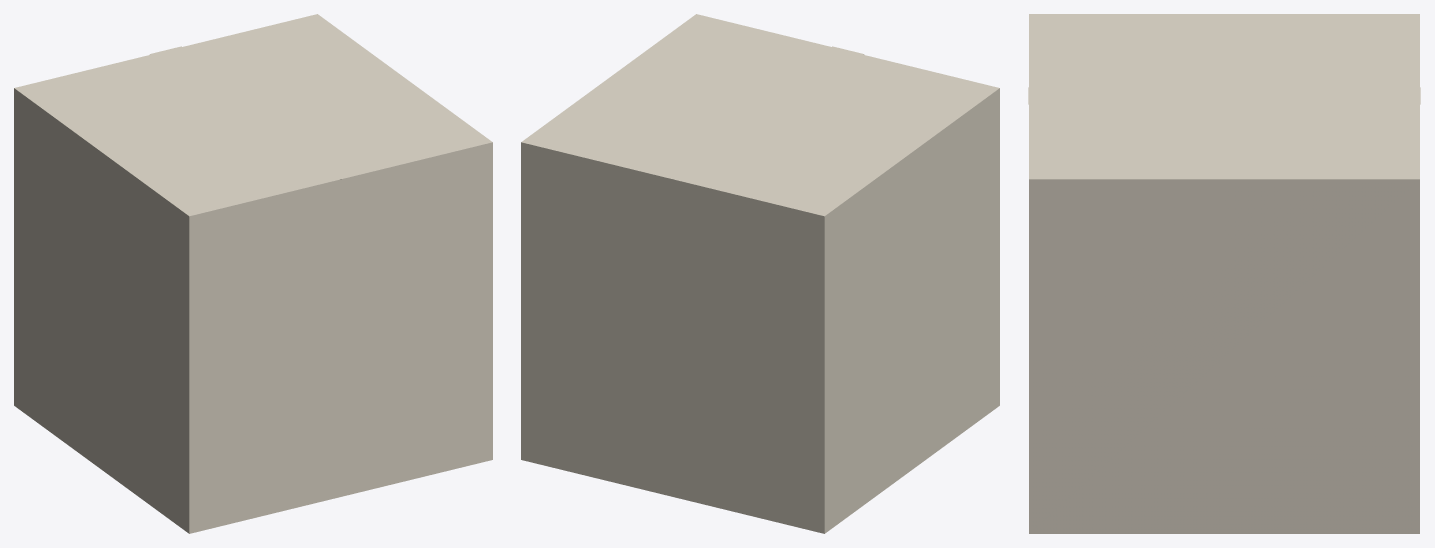
The model's file is Kit_RecordsCarton_Plain.fbx.
The picture shows the model from 3 angles, left to right: view 1: azimuth 30°, elevation 25°; view 2: azimuth 150°, elevation 25°; view 3: azimuth 270°, elevation 25°; orthographic projection. The views are drawn at different scales.
Visible parts, largest first — view 1: Kit_RecordsCarton_Plain_LOD0; view 2: Kit_RecordsCarton_Plain_LOD0; view 3: Kit_RecordsCarton_Plain_LOD0.
Part boxes in pixels (x1,y1,x2,y2): Kit_RecordsCarton_Plain_LOD0: (14, 14, 492, 533); Kit_RecordsCarton_Plain_LOD0: (521, 14, 999, 533); Kit_RecordsCarton_Plain_LOD0: (1028, 14, 1420, 533).
Size of what is drawn, in the model's own units: 0.457 by 0.4578 by 0.4586.
